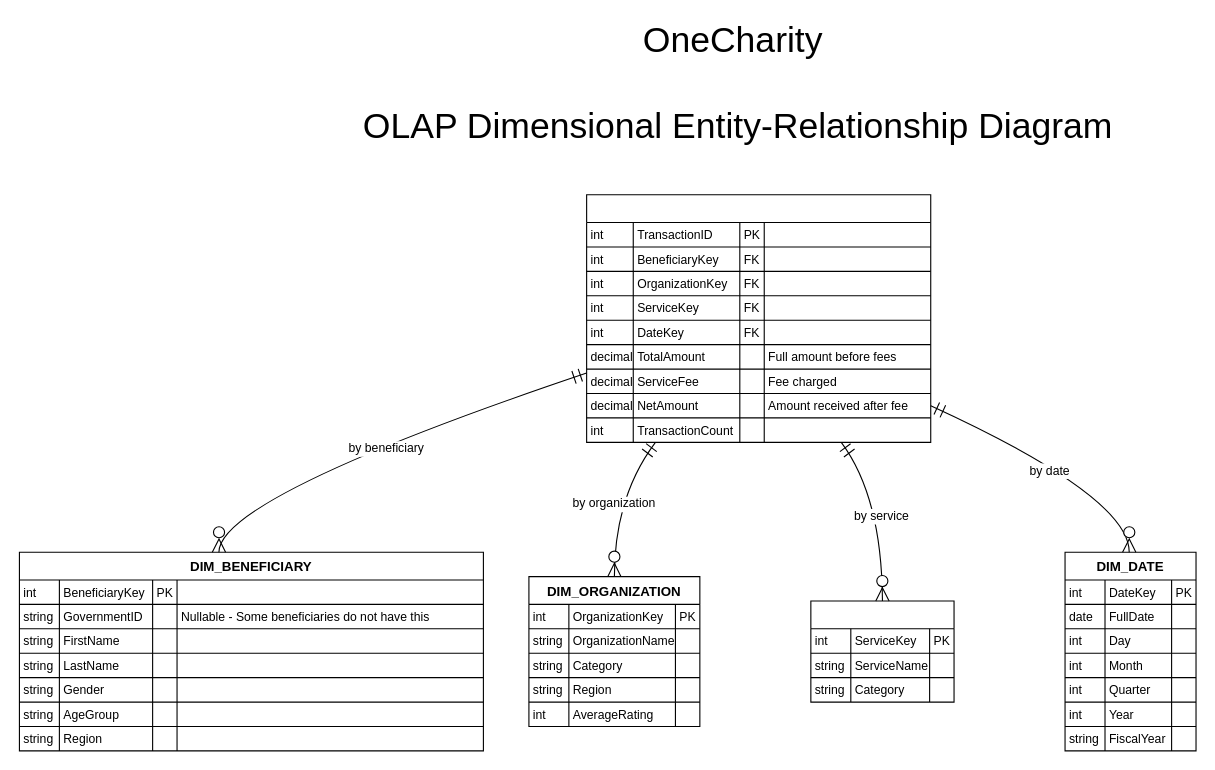
This 1215x770 diagram has some shape labels left out. Here are the shapes that lost their labels. From the top down, the box of each, then its label:
(586, 194, 931, 442): FACT_TRANSACTION
(810, 600, 954, 702): DIM_SERVICE
